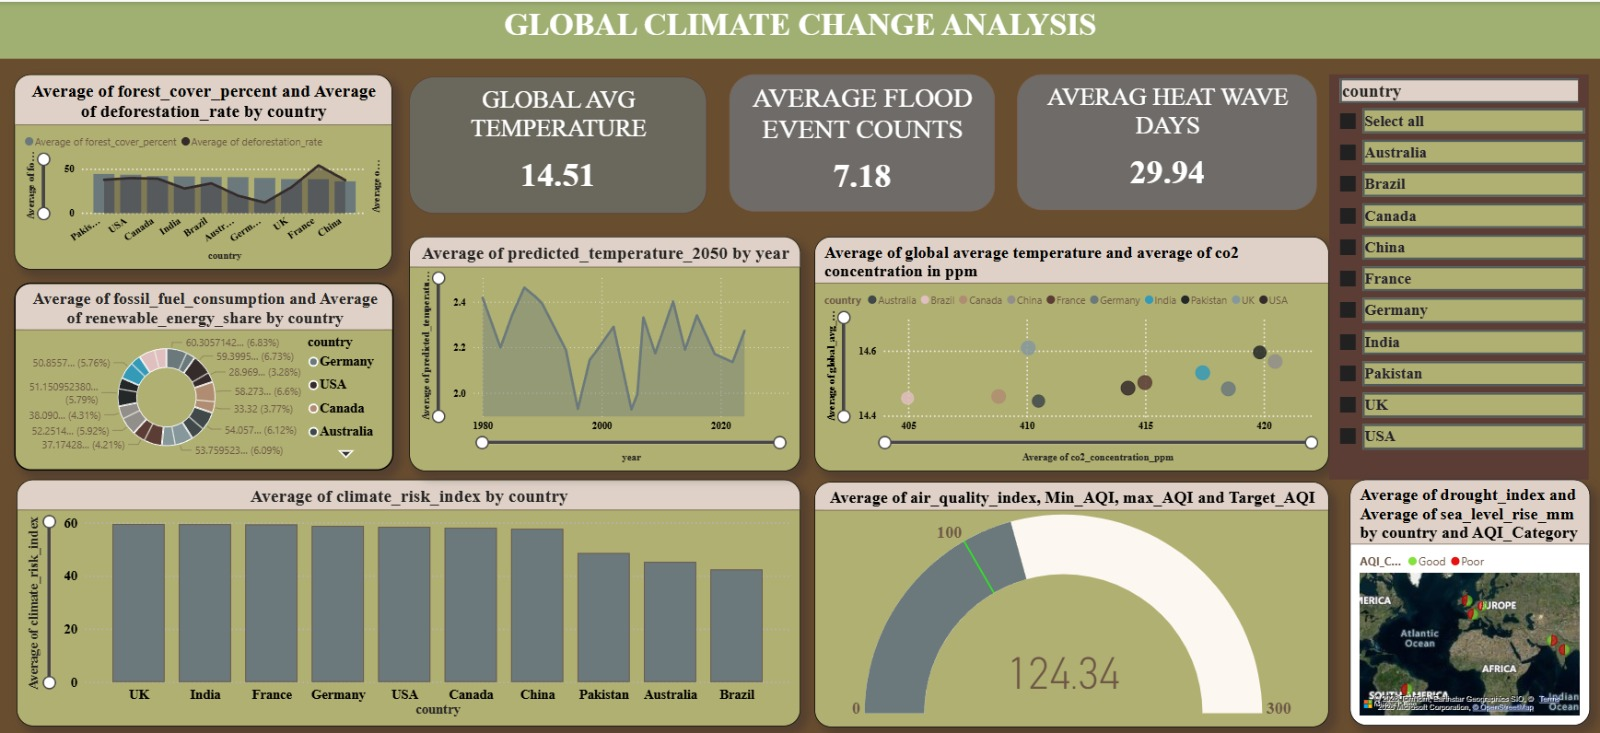

Layout of this report page (visuals, bound fields, positions):
{"tool":"powerbi","page":{"name":"Page 6","canvas":[1918,881],"ordinal":5},"visuals":[{"type":"donutChart","fields":{"Category":["Biginner_Climate_change.country"],"Y":["Avg(Biginner_Climate_change.fossil_fuel_consumption)","Avg(Biginner_Climate_change.renewable_energy_share)"]},"box":[19.8,336.5,453.4,224.9],"z":0},{"type":"lineClusteredColumnComboChart","fields":{"Category":["Biginner_Climate_change.country"],"Y":["Avg(Biginner_Climate_change.forest_cover_percent)"],"Y2":["Avg(Biginner_Climate_change.deforestation_rate)"]},"box":[19.8,86.4,451.6,233.9],"z":1000},{"type":"clusteredColumnChart","fields":{"Category":["Biginner_Climate_change.country"],"Y":["Avg(Biginner_Climate_change.climate_risk_index)"]},"box":[22.1,571.3,937.4,295.2],"z":2000},{"type":"lineChart","fields":{"Category":["Biginner_Climate_change.year"],"Y":["Avg(Biginner_Climate_change.predicted_temperature_2050)"]},"box":[491.6,280.5,468,280.5],"z":3000},{"type":"scatterChart","title":"Average of global average temperature and average of co2 concentration in ppm","fields":{"Series":["Biginner_Climate_change.country"],"X":["Avg(Biginner_Climate_change.co2_concentration_ppm)"],"Y":["Avg(Biginner_Climate_change.global_avg_temperature)"],"Size":["Avg(Biginner_Climate_change.climate_risk_index)"]},"box":[977,280.7,615.3,280.7],"z":4000},{"type":"slicer","fields":{"Values":["Biginner_Climate_change.country"]},"box":[1592.2,86.1,310.7,484.6],"z":5000},{"type":"textbox","box":[0,0,1918.4,68],"z":6000},{"type":"gauge","fields":{"Y":["Avg(Biginner_Climate_change.air_quality_index)"],"MinValue":["Biginner_Climate_change.Min_AQI"],"MaxValue":["Biginner_Climate_change.max_AQI"],"TargetValue":["Biginner_Climate_change.Target_AQI"]},"box":[977,574,615.3,293.3],"z":7000},{"type":"card","title":"GLOBAL AVG TEMPERATURE","fields":{"Values":["Avg(Biginner_Climate_change.global_avg_temperature)"]},"box":[491.6,90,355.8,163.9],"z":8000},{"type":"card","title":"AVERAGE FLOOD EVENT COUNTS","fields":{"Values":["Avg(Biginner_Climate_change.flood_events_count)"]},"box":[873.9,87.1,317.4,163.9],"z":9000},{"type":"card","title":"AVERAG HEAT WAVE DAYS","fields":{"Values":["Avg(Biginner_Climate_change.heatwave_days)"]},"box":[1219.4,87.1,358.7,162.4],"z":10000},{"type":"map","fields":{"Category":["Biginner_Climate_change.country"],"Series":["Biginner_Climate_change.AQI_Category"],"Size":["Avg(Biginner_Climate_change.drought_index)"]},"box":[1616.9,571.5,287.5,294.5],"z":11000}]}

Visuals, with their boxes in screenshot pixels (x1, y1, x2, y2), scaled from the page's 1918x881 canvas onto the 1600x733 screenshot:
donutChart - Biginner_Climate_change.country x Avg(Biginner_Climate_change.fossil_fuel_consumption): region(17, 280, 395, 467)
lineClusteredColumnComboChart - Biginner_Climate_change.country x Avg(Biginner_Climate_change.forest_cover_percent): region(17, 72, 393, 266)
clusteredColumnChart - Biginner_Climate_change.country x Avg(Biginner_Climate_change.climate_risk_index): region(18, 475, 800, 721)
lineChart - Biginner_Climate_change.year x Avg(Biginner_Climate_change.predicted_temperature_2050): region(410, 233, 801, 467)
"Average of global average temperature and average of co2 concentration in ppm" scatterChart: region(815, 234, 1328, 467)
slicer - Biginner_Climate_change.country: region(1328, 72, 1587, 475)
textbox: region(0, 0, 1599, 57)
gauge - Avg(Biginner_Climate_change.air_quality_index) x Biginner_Climate_change.Min_AQI: region(815, 478, 1328, 722)
"GLOBAL AVG TEMPERATURE" card: region(410, 75, 707, 211)
"AVERAGE FLOOD EVENT COUNTS" card: region(729, 72, 994, 209)
"AVERAG HEAT WAVE DAYS" card: region(1017, 72, 1316, 208)
map - Biginner_Climate_change.country x Biginner_Climate_change.AQI_Category: region(1349, 475, 1589, 721)
